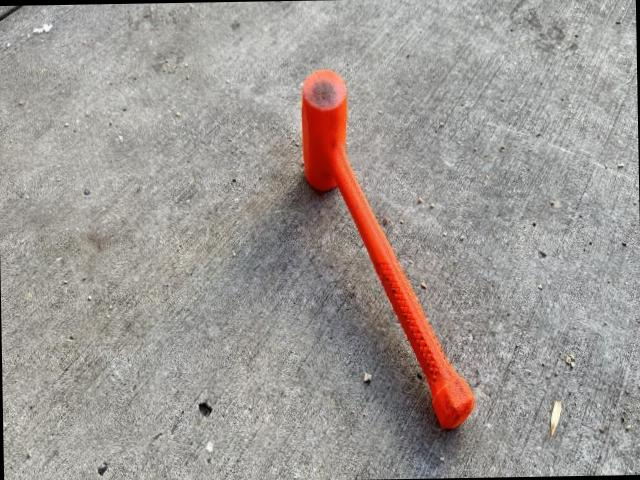hammer: (300, 66, 474, 436)
